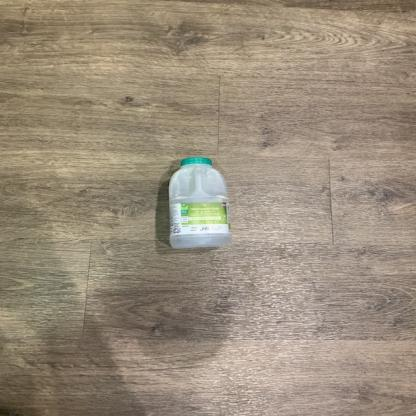trash: (163, 154, 236, 251)
